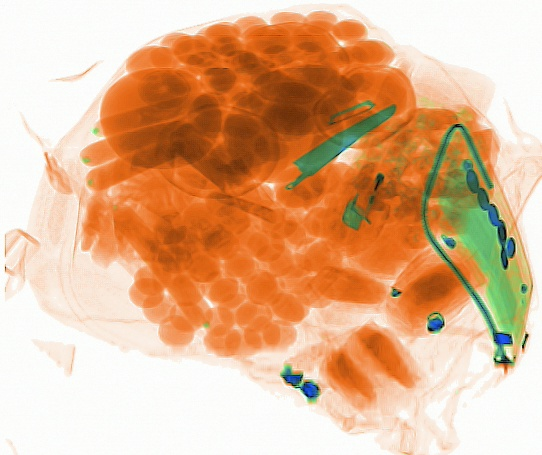knife: (249, 98, 397, 211)
lighter: (340, 147, 405, 228)
